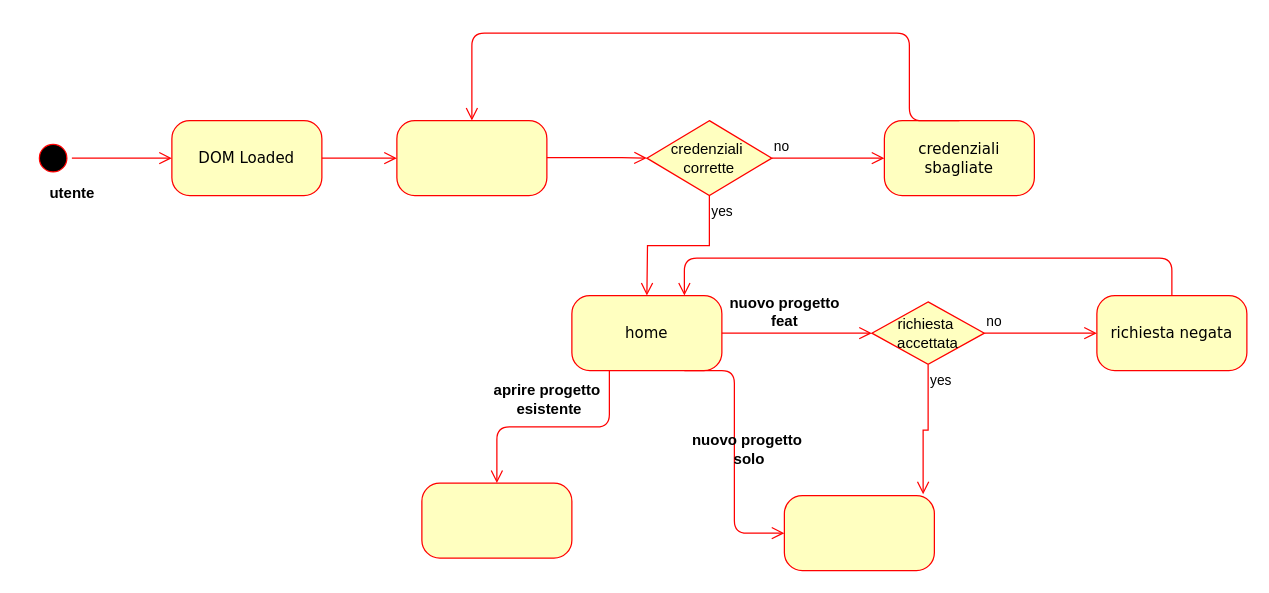
The diagram is 1269 pixels wide and 593 high, and some of its shapes have lost their labels. The centre of each missing label's shape, as x and y in pixels:
Login: point 471,157
Nuovo progetto: point 858,532
progetto: point 496,520
